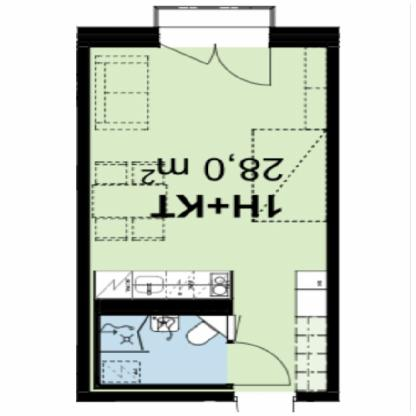door: (174, 46, 276, 87), (227, 341, 288, 386)
zone: (89, 46, 313, 385), (156, 8, 268, 48)
